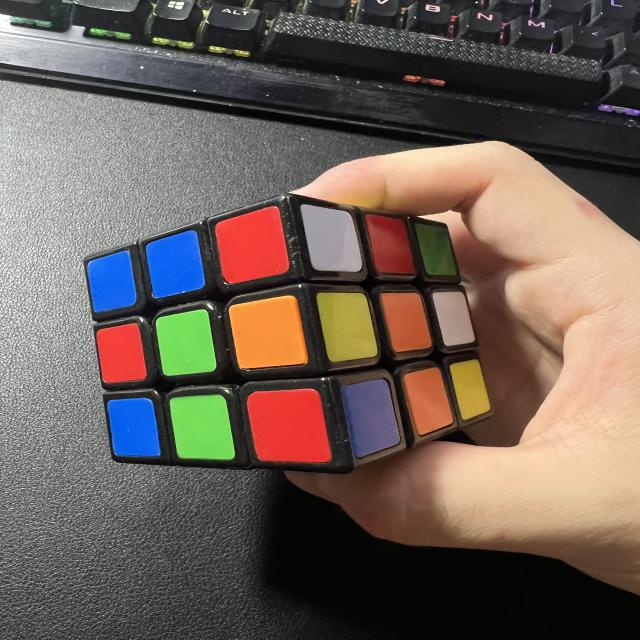blue: (343, 378, 402, 458), (144, 228, 206, 299), (107, 394, 159, 463), (86, 251, 136, 312)
center: (154, 308, 218, 380), (378, 285, 433, 357), (389, 309, 397, 319)
green: (168, 389, 235, 469), (156, 309, 215, 378), (415, 217, 458, 281)
orange: (227, 293, 309, 376), (401, 365, 455, 435), (380, 284, 431, 355)
red: (211, 204, 292, 284), (245, 391, 331, 461), (365, 207, 414, 281), (95, 322, 147, 385)
white: (301, 196, 362, 280), (433, 287, 474, 348)
yellow: (316, 284, 377, 365), (448, 358, 491, 420)
